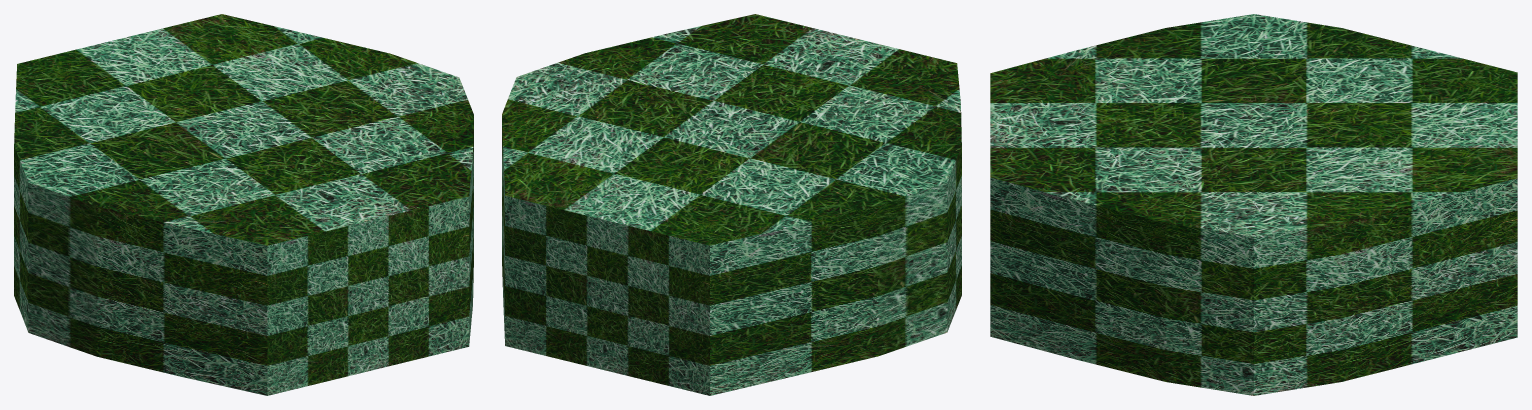
The model's file is Floor6TightEdgeForward.fbx.
3 views of the same model, side by side, from view 1: azimuth 30°, elevation 25°; view 2: azimuth 150°, elevation 25°; view 3: azimuth 270°, elevation 25° (orthographic). The views are drawn at different scales.
Visible parts, largest first — view 1: Floor.006TightEdgeForward; view 2: Floor.006TightEdgeForward; view 3: Floor.006TightEdgeForward.
Boxes of the visible parts, x1,y1,x2,y2 form: Floor.006TightEdgeForward: (14, 14, 473, 395); Floor.006TightEdgeForward: (502, 14, 961, 395); Floor.006TightEdgeForward: (990, 14, 1517, 395).
Size of the model in its own units: 150 by 50 by 150.
